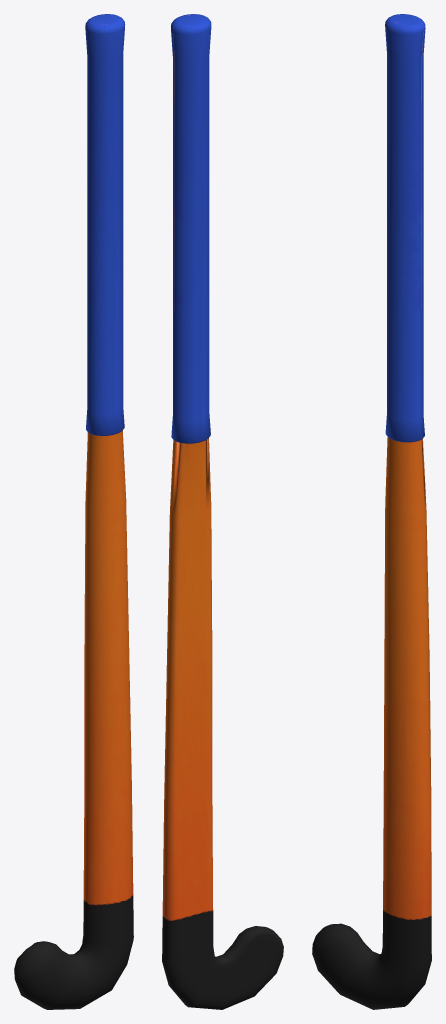
The model's file is HockeyStick.fbx.
3 views of the same model, side by side, from view 1: azimuth 30°, elevation 25°; view 2: azimuth 210°, elevation 25°; view 3: azimuth 330°, elevation 25° (orthographic).
Visible parts, largest first — view 1: Hockey Stick; view 2: Hockey Stick; view 3: Hockey Stick.
Boxes of the visible parts, x1,y1,x2,y2 form: Hockey Stick: [14, 14, 133, 1009]; Hockey Stick: [162, 14, 283, 1009]; Hockey Stick: [312, 14, 431, 1009].
Size of the model in its own units: 58.43 by 473 by 16.76.
Materials: 1 (1 with a texture image).
